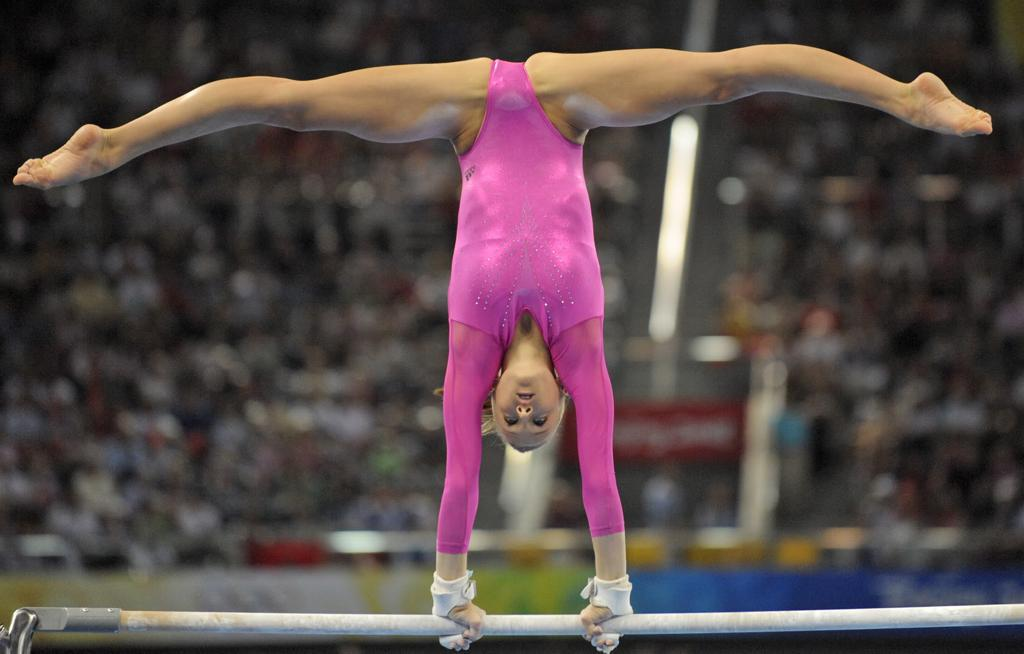face: (489, 369, 569, 457)
